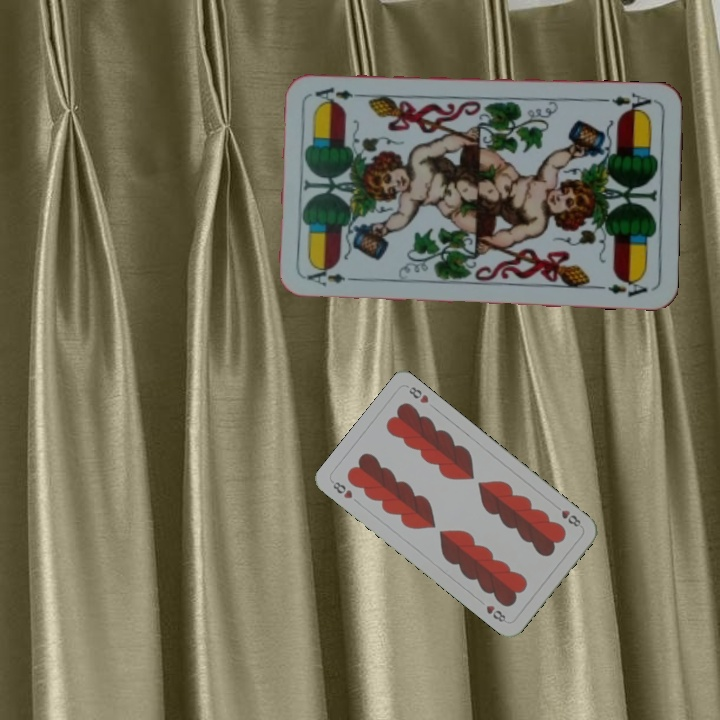EA: (598, 88, 658, 116), (303, 264, 362, 290)
H8: (550, 501, 583, 530), (328, 477, 355, 501)
